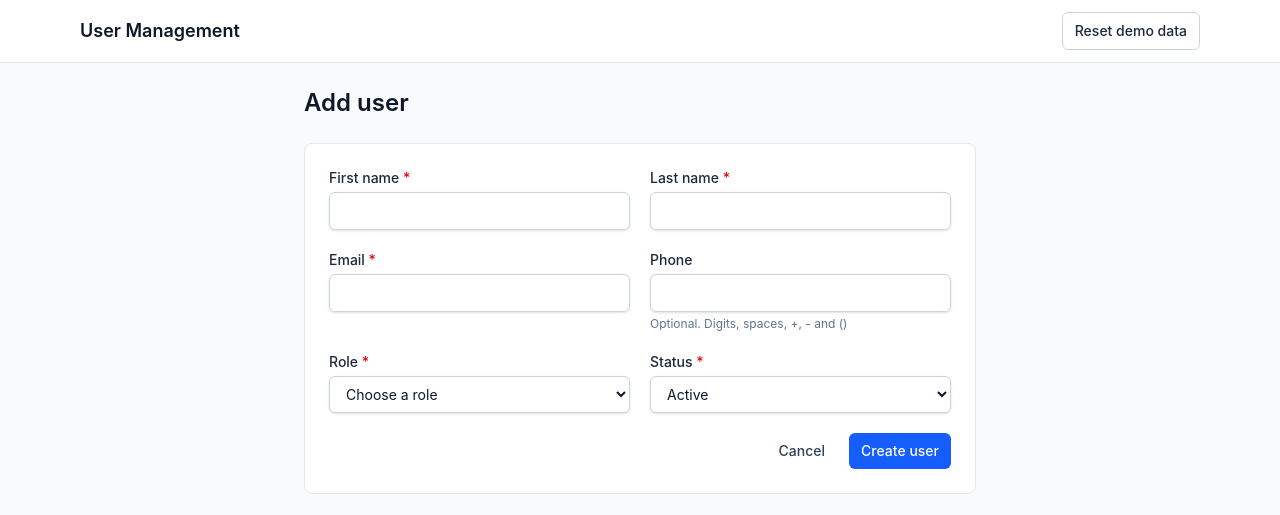
CreateUserPage › shows "Email is already in use" on the email field and keeps the input
In the field labelled "First name *": (480, 211) [329,192,630,230], type "Zoe"
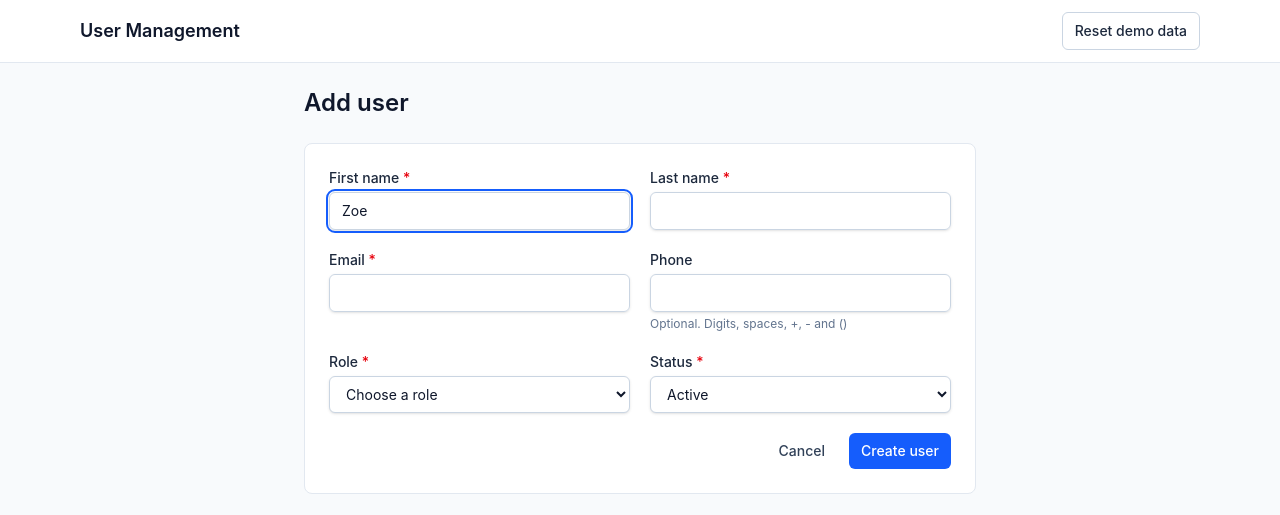
In the field labelled "Last name *": (800, 211) [650,192,951,230], type "Adams"
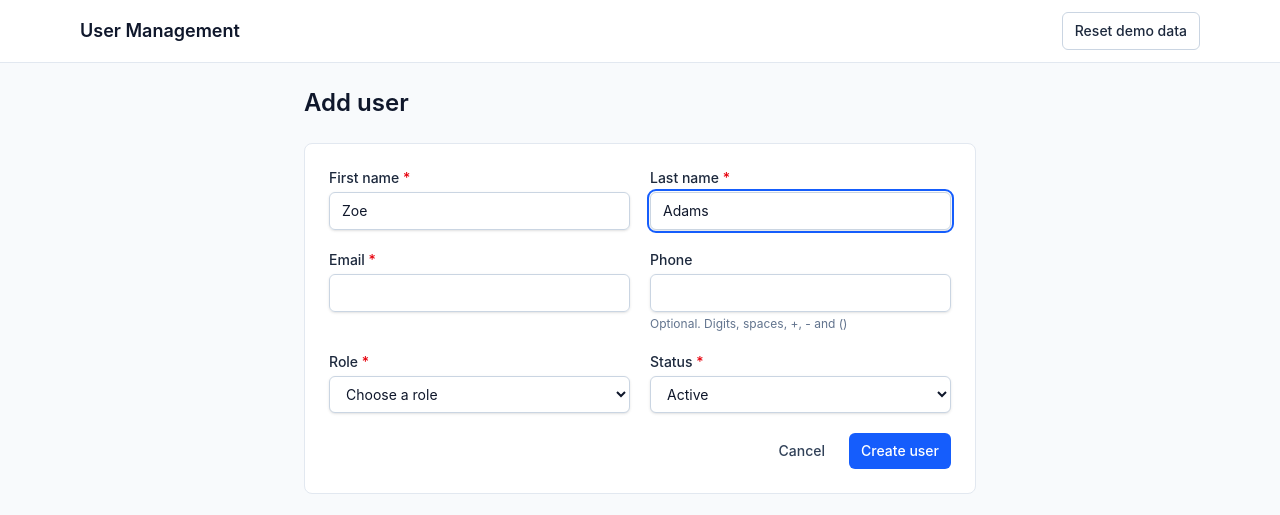
In the field labelled "Email *": (480, 293) [329,274,630,312], type "ANNA.kowalski@example.com"
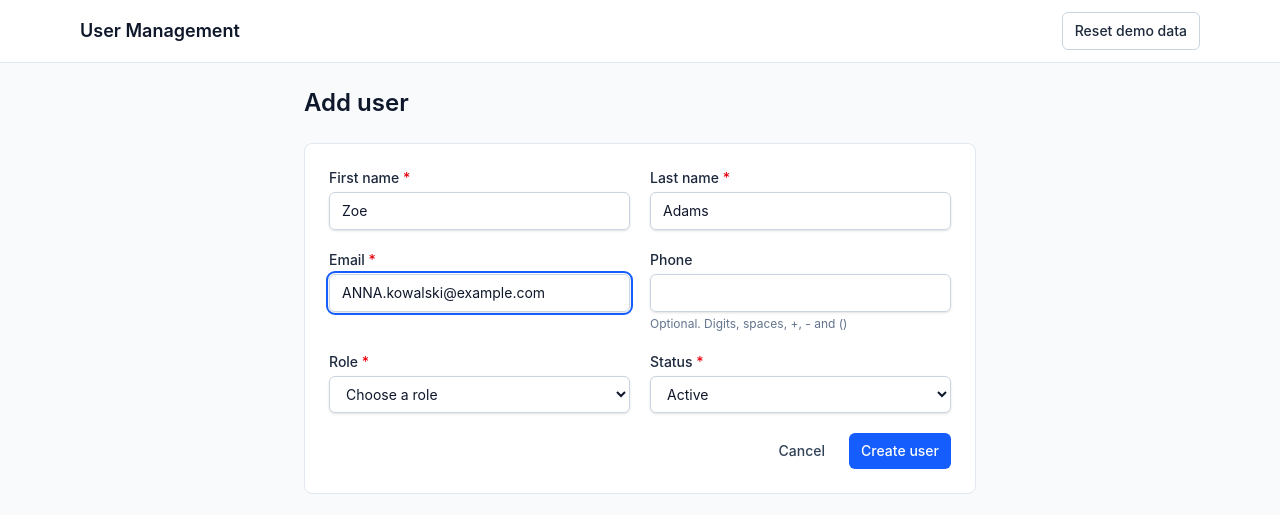
In the field labelled "Phone": (800, 293) [650,274,951,312], type "+1 555 0100"
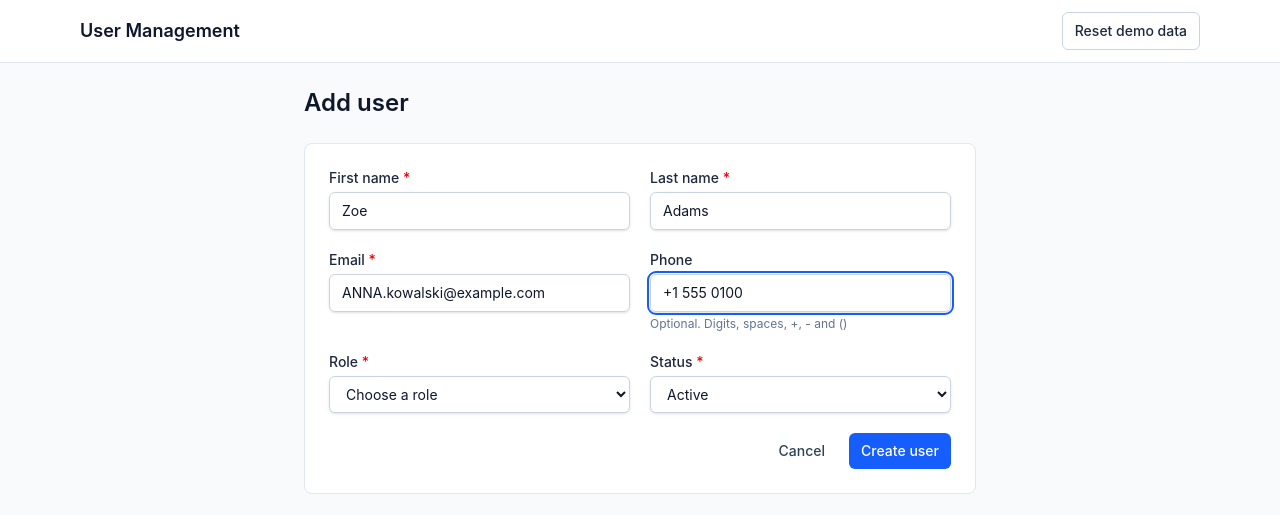
Select "Editor" in the dropdown labelled "Role *": (480, 394) [329,376,630,413]
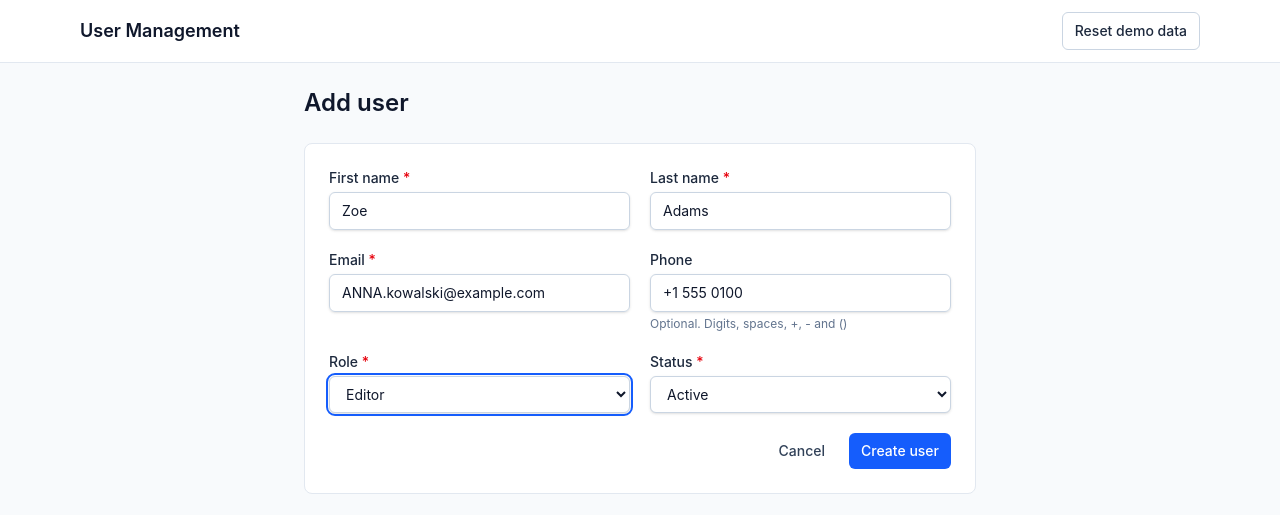
Click the button "Create user": (900, 451) [849,433,951,469]
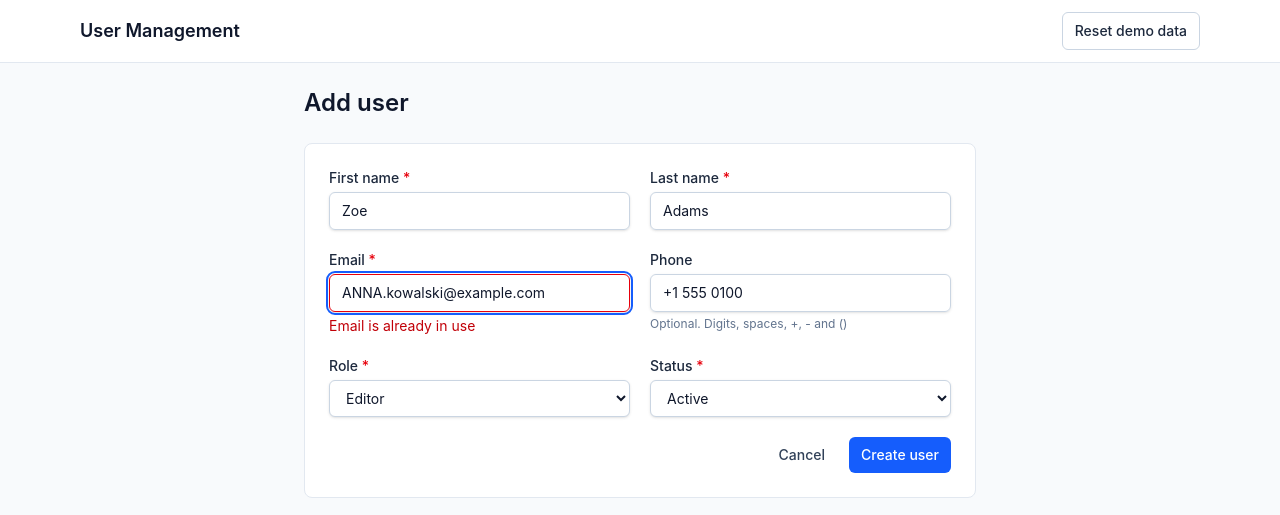
Expected: the text "Email is already in use" is shown, [329,317,475,334]
